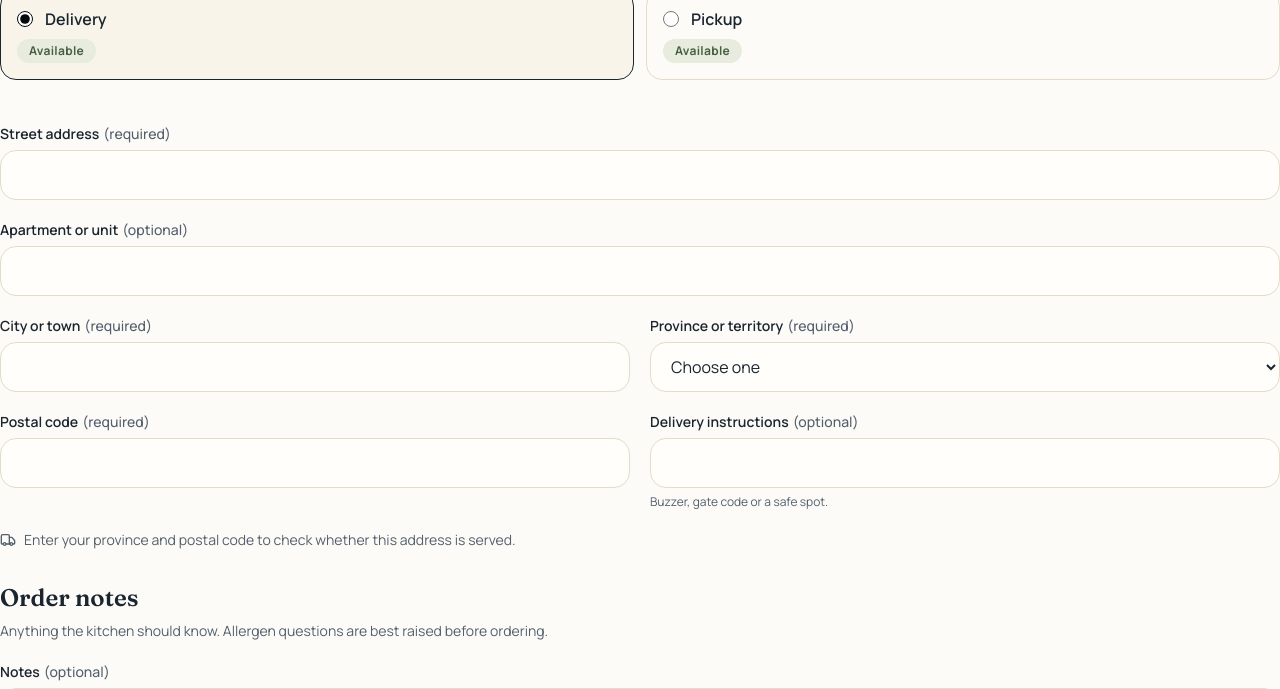
CustomerForm: validation › rejects a postal code that Canada Post would not issue
This screenshot has width=1280, height=689.
(page scrolled)
Type "12345" into the field labelled "Postal code(required)" at (315, 462), box [0,438,630,488]
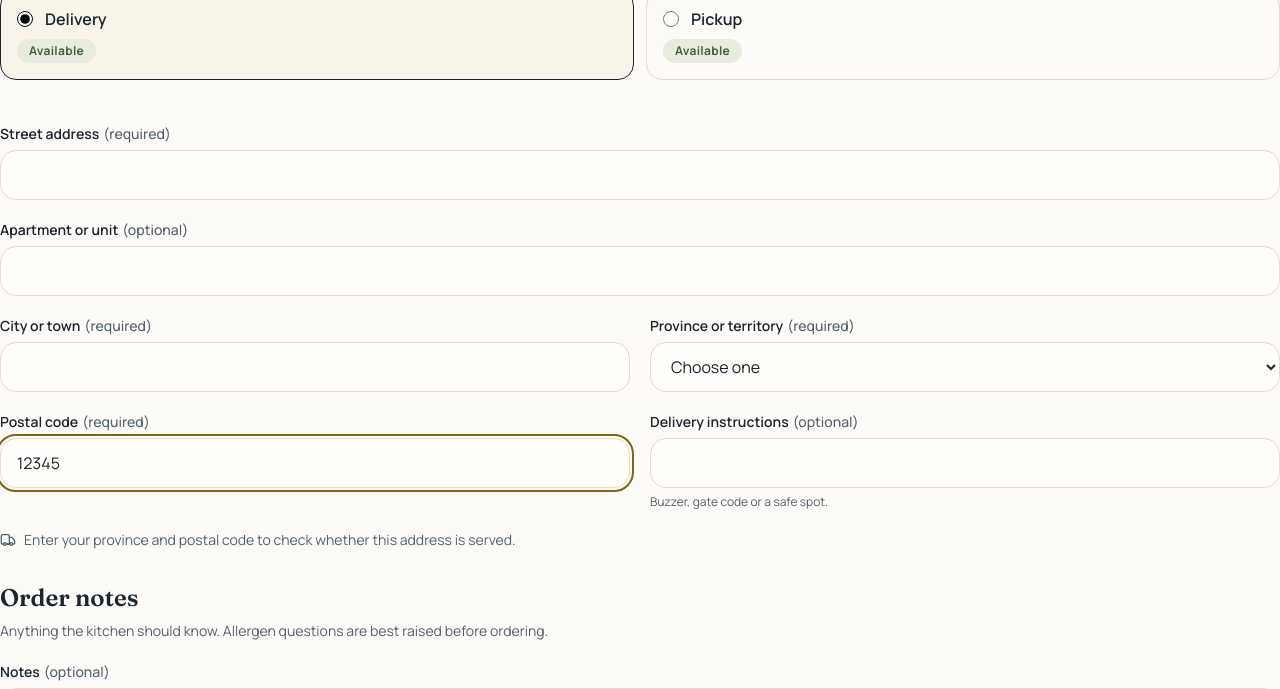
Press Tab
(page scrolled)
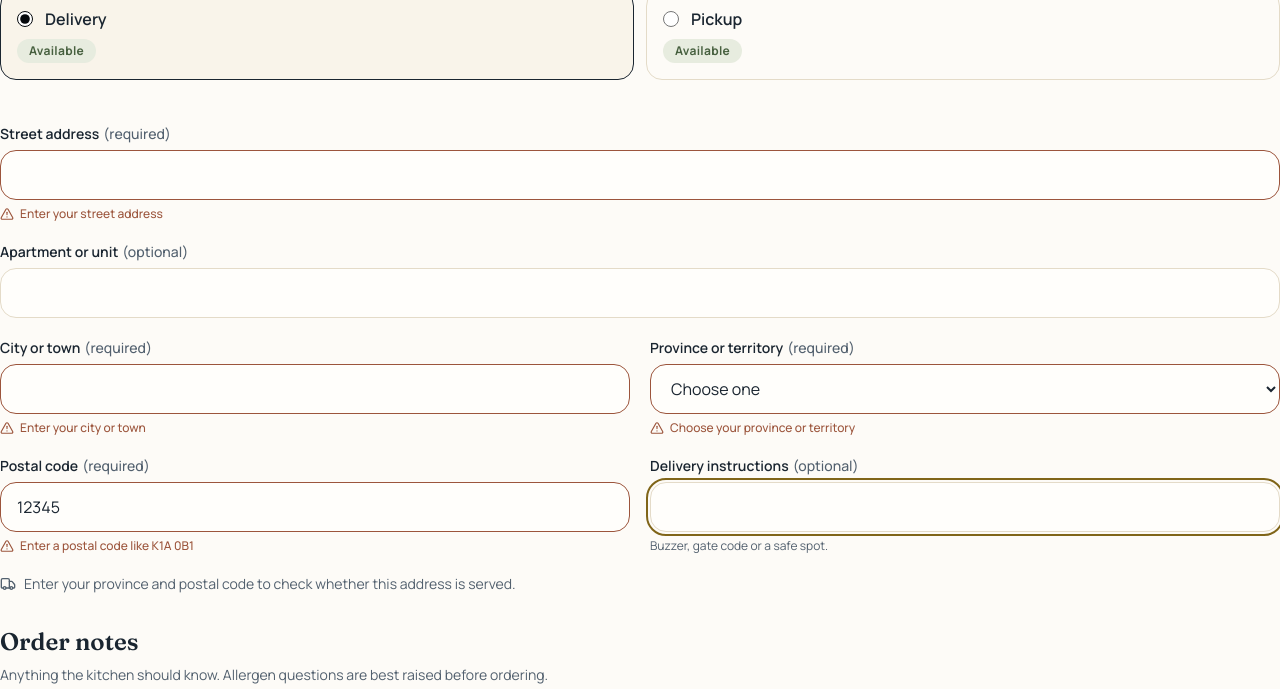
Now the text "Enter a postal code like K1A 0B1" is shown, box [0,536,194,554]
